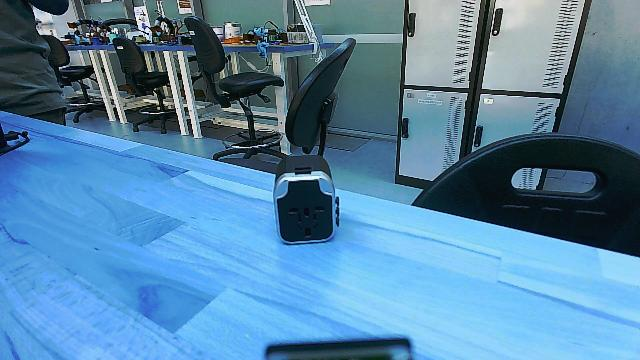adapter: (266, 150, 340, 250)
